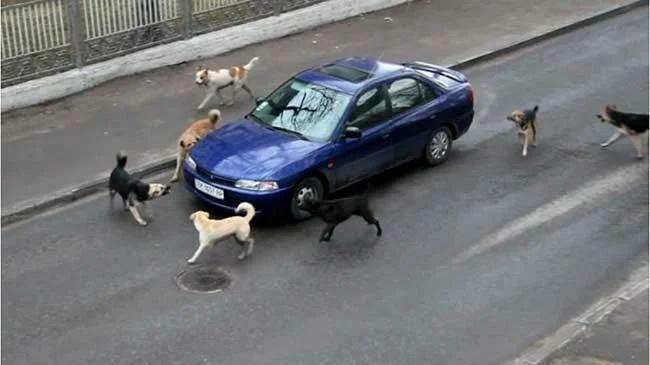dog_aggressive: (300, 184, 386, 243), (107, 150, 172, 226), (188, 202, 257, 263), (169, 110, 222, 181), (190, 55, 259, 108), (595, 102, 649, 159)
normal_dogs: (506, 103, 546, 160)
